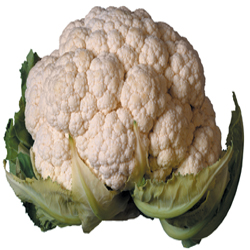cauliflower: (0, 3, 247, 249)
